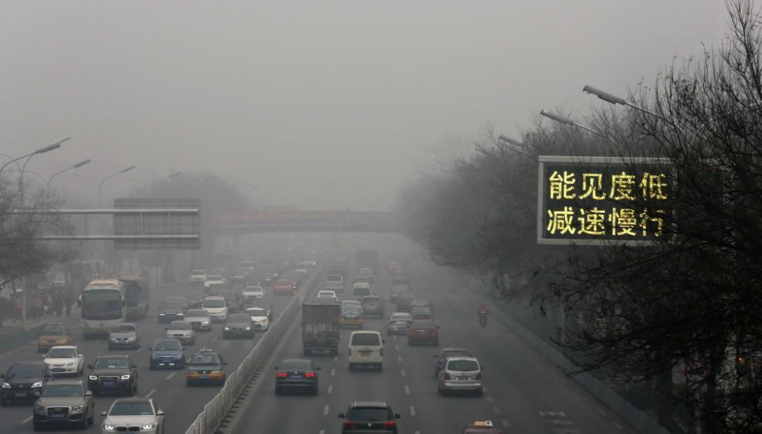boat: (185, 347, 225, 382), (184, 366, 224, 386), (201, 291, 231, 317)
bus: (310, 241, 401, 327), (301, 257, 367, 357), (280, 258, 333, 355), (295, 279, 348, 364), (330, 257, 383, 341), (33, 370, 94, 429), (348, 263, 395, 339), (334, 294, 384, 364), (297, 254, 340, 330), (306, 251, 362, 303), (318, 302, 366, 360), (91, 276, 150, 323), (80, 278, 126, 333), (349, 247, 389, 307), (301, 299, 340, 357), (332, 247, 378, 296), (86, 353, 139, 395), (337, 399, 399, 433), (435, 351, 481, 396), (306, 281, 341, 335), (307, 261, 342, 312), (274, 357, 318, 395), (346, 329, 384, 371), (186, 347, 227, 383), (316, 278, 347, 323), (301, 258, 335, 299), (338, 325, 374, 363), (120, 278, 150, 320), (45, 344, 84, 376), (149, 338, 186, 370), (321, 258, 350, 297), (269, 279, 296, 320), (37, 322, 72, 353), (351, 247, 378, 287), (338, 300, 364, 340), (330, 283, 357, 321), (290, 261, 318, 296), (278, 265, 311, 293), (270, 272, 300, 300), (348, 273, 375, 304), (345, 293, 373, 322), (184, 366, 224, 386), (372, 266, 394, 302), (335, 295, 362, 324), (201, 291, 231, 317), (165, 321, 196, 345), (241, 295, 267, 323), (360, 293, 386, 319), (240, 283, 264, 310), (322, 276, 343, 300), (354, 260, 375, 284), (327, 262, 344, 288), (354, 268, 373, 291), (325, 272, 345, 293), (272, 278, 296, 295), (351, 282, 373, 300), (314, 289, 339, 303)
car: (222, 383, 331, 429), (185, 380, 269, 432), (8, 349, 74, 409), (33, 353, 92, 415), (87, 363, 150, 420), (31, 377, 96, 429), (184, 351, 227, 412), (80, 278, 126, 331), (95, 279, 148, 325), (99, 395, 163, 433), (20, 361, 80, 399), (0, 360, 49, 406), (86, 354, 139, 396), (40, 347, 83, 397), (337, 399, 400, 433), (436, 353, 483, 395), (274, 358, 319, 395), (12, 369, 60, 403), (166, 343, 213, 377), (347, 329, 384, 371), (336, 299, 365, 350), (356, 282, 397, 318), (431, 347, 474, 381), (397, 290, 437, 326), (338, 325, 374, 363), (165, 301, 212, 330), (186, 346, 227, 378), (43, 344, 85, 375), (149, 337, 186, 370), (373, 268, 405, 305), (386, 268, 413, 311), (121, 279, 149, 320), (161, 338, 202, 366), (373, 282, 407, 315), (227, 291, 263, 322), (37, 334, 78, 361), (37, 324, 73, 353), (353, 299, 390, 327), (233, 265, 270, 293), (388, 288, 413, 329), (355, 272, 382, 309), (181, 297, 215, 326), (185, 363, 226, 387), (393, 319, 429, 346), (267, 273, 297, 305), (369, 291, 402, 320), (407, 307, 435, 341), (106, 323, 141, 350), (389, 302, 419, 333), (348, 281, 375, 315), (354, 250, 378, 287), (157, 327, 192, 352), (160, 308, 191, 336), (408, 319, 440, 346), (274, 357, 315, 378), (222, 313, 255, 339), (157, 296, 187, 324), (204, 280, 237, 305), (174, 311, 207, 336), (0, 366, 21, 405), (345, 293, 373, 322), (361, 310, 388, 340), (231, 309, 262, 335), (207, 290, 239, 315), (271, 269, 303, 294), (220, 263, 262, 282), (390, 284, 417, 313), (165, 320, 195, 346), (346, 276, 376, 302), (200, 295, 229, 321), (366, 315, 400, 337), (241, 295, 267, 323), (355, 288, 382, 314), (339, 298, 363, 327), (240, 277, 269, 301), (191, 297, 220, 321), (213, 285, 243, 308), (222, 288, 252, 311), (361, 294, 387, 320), (394, 293, 421, 318), (196, 271, 229, 291), (184, 308, 212, 331), (434, 353, 459, 378), (243, 306, 269, 330), (239, 289, 266, 312), (436, 346, 472, 363), (189, 268, 223, 285), (401, 294, 428, 315), (387, 311, 412, 333), (149, 399, 166, 431), (385, 260, 407, 284), (41, 324, 70, 342), (408, 313, 438, 330), (322, 276, 343, 300), (391, 272, 410, 298), (185, 300, 209, 320), (409, 306, 434, 325), (408, 298, 433, 317), (353, 285, 374, 307), (241, 284, 264, 304), (282, 357, 316, 370), (389, 267, 410, 288), (354, 268, 373, 291), (464, 419, 497, 432), (390, 283, 411, 303), (203, 293, 229, 309), (351, 281, 373, 299), (190, 368, 223, 380), (276, 274, 299, 291), (272, 278, 296, 294), (0, 374, 12, 406), (325, 272, 345, 291), (224, 293, 243, 313), (394, 291, 415, 309), (390, 306, 410, 324), (345, 297, 367, 313), (315, 288, 338, 303), (163, 313, 186, 328), (236, 283, 259, 298), (356, 263, 374, 282), (157, 311, 183, 324), (204, 280, 228, 294), (389, 320, 410, 336), (434, 356, 446, 382), (396, 297, 415, 313), (243, 281, 263, 296), (226, 278, 246, 293), (203, 271, 227, 283), (189, 268, 208, 283), (385, 259, 402, 275), (240, 260, 256, 277), (203, 276, 227, 287), (274, 368, 287, 388), (383, 300, 397, 318), (185, 297, 203, 310)
chair: (200, 295, 229, 321)
motorcycle: (408, 316, 440, 345), (477, 305, 488, 328)
person: (34, 356, 93, 423), (409, 312, 440, 341), (409, 303, 439, 330), (409, 299, 434, 317), (416, 314, 441, 329), (477, 303, 488, 327), (33, 296, 43, 319), (15, 298, 23, 322)
train: (302, 276, 344, 349), (291, 257, 352, 300)
truck: (32, 375, 96, 429), (322, 247, 381, 305), (36, 349, 89, 413), (13, 357, 82, 406), (350, 258, 408, 314), (301, 289, 341, 357), (184, 351, 227, 412), (100, 395, 165, 433), (79, 278, 126, 330), (95, 279, 148, 325), (1, 358, 52, 404), (86, 354, 138, 396), (336, 399, 399, 432), (435, 351, 481, 396), (351, 245, 385, 300), (369, 278, 412, 317), (274, 358, 318, 395), (166, 343, 213, 377), (346, 329, 384, 371), (316, 260, 350, 306), (345, 263, 378, 310), (186, 347, 227, 384), (336, 299, 365, 350), (397, 290, 437, 326), (44, 344, 84, 376), (339, 323, 371, 363), (431, 347, 471, 379), (353, 291, 394, 321), (149, 337, 186, 370), (386, 268, 413, 311), (123, 278, 150, 320), (269, 279, 296, 320), (37, 324, 72, 353), (383, 260, 412, 295), (355, 272, 382, 309), (375, 267, 404, 301), (184, 363, 225, 387), (327, 265, 353, 302), (369, 291, 402, 320), (286, 261, 317, 291), (348, 281, 375, 315), (350, 258, 373, 297), (107, 324, 141, 350), (169, 311, 207, 334), (406, 311, 437, 339), (354, 248, 378, 284), (408, 319, 440, 346), (367, 282, 390, 319), (157, 295, 186, 324), (324, 257, 348, 292), (270, 272, 300, 300), (371, 267, 393, 305), (222, 312, 254, 338), (204, 280, 237, 305), (345, 293, 373, 322), (231, 309, 262, 335), (207, 290, 239, 315), (275, 269, 306, 294), (389, 285, 415, 314), (216, 286, 245, 312), (165, 320, 195, 345), (201, 295, 229, 321), (241, 295, 267, 323), (387, 306, 412, 335), (339, 298, 363, 327), (407, 305, 438, 327), (243, 306, 270, 330), (184, 308, 212, 330), (359, 294, 384, 318), (389, 297, 419, 317), (189, 268, 223, 285), (240, 284, 264, 308), (408, 299, 433, 322), (401, 294, 428, 315), (356, 290, 380, 312), (322, 276, 343, 300), (391, 272, 410, 298), (389, 267, 410, 288), (354, 268, 373, 291), (241, 281, 265, 299), (464, 419, 497, 432), (352, 281, 373, 301), (325, 272, 345, 293), (390, 283, 411, 303), (394, 294, 415, 313), (272, 278, 296, 294), (315, 289, 339, 304), (158, 311, 184, 324), (204, 280, 228, 294), (189, 268, 208, 283)
tv: (79, 278, 125, 329), (149, 338, 186, 370)
